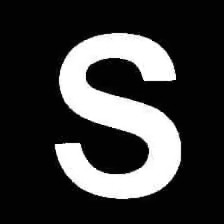LTR_S: (45, 23, 190, 204)
